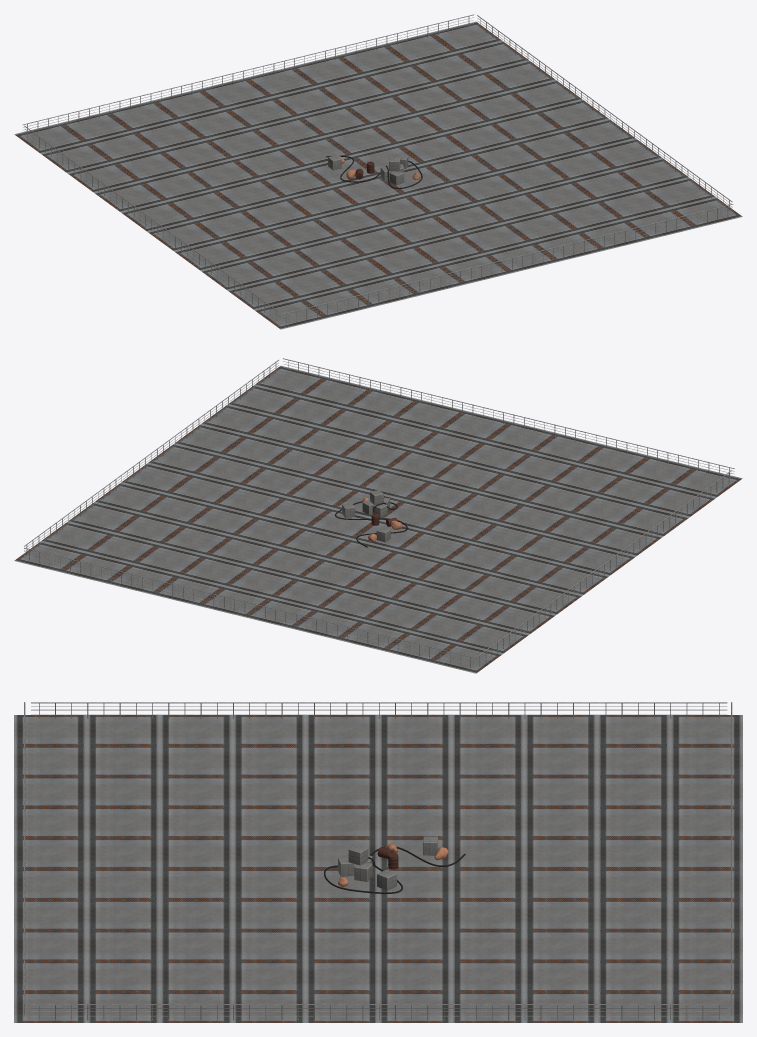
The model's file is SciFiDemo.fbx.
3 views of the same model, one above another, from view 1: azimuth 30°, elevation 25°; view 2: azimuth 150°, elevation 25°; view 3: azimuth 270°, elevation 25° (orthographic). The views are drawn at different scales.
Parts seen in each view (by area): view 1: Plane, Circle, Circle.001, Circle.003, Circle.002; view 2: Plane, Circle, Circle.001, Circle.002, Circle.003; view 3: Plane, Circle.002, Circle.003, Circle.001, Circle.
Part boxes in pixels (x1,y1,x2,y2): Plane: [14, 21, 742, 329]; Circle: [22, 14, 474, 134]; Circle.001: [281, 204, 733, 324]; Circle.003: [477, 15, 732, 211]; Circle.002: [24, 125, 279, 321]; Plane: [14, 365, 742, 673]; Circle: [24, 547, 475, 668]; Circle.001: [283, 358, 734, 478]; Circle.002: [477, 470, 732, 666]; Circle.003: [24, 360, 278, 555]; Plane: [14, 715, 742, 1022]; Circle.002: [31, 702, 727, 718]; Circle.003: [31, 1004, 727, 1020]; Circle.001: [23, 702, 25, 1015]; Circle: [731, 702, 732, 1015].
Bounding box in the file's own units: 1000 × 40.84 × 1000.
Materials: 6 (6 with a texture image).
